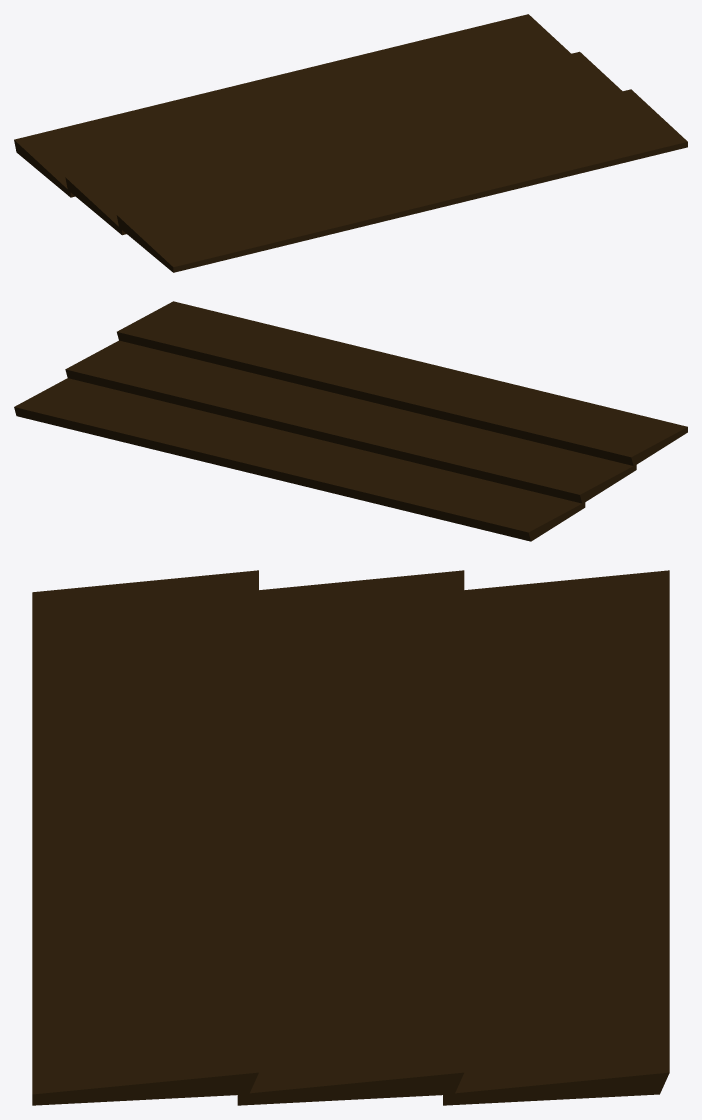
Rendered from Roof.fbx.
3 renders of one model, top to bottom at view 1: azimuth 30°, elevation 25°; view 2: azimuth 150°, elevation 25°; view 3: azimuth 270°, elevation 25°, orthographic. The views are drawn at different scales.
Parts seen in each view (by area): view 1: Roof; view 2: Roof; view 3: Roof.
Part boxes in pixels (<box>): Roof: <box>14,14,687,272</box>; Roof: <box>14,301,687,541</box>; Roof: <box>32,570,669,1105</box>.
Size of the model in its own units: 10.21 by 0.3141 by 5.48.
